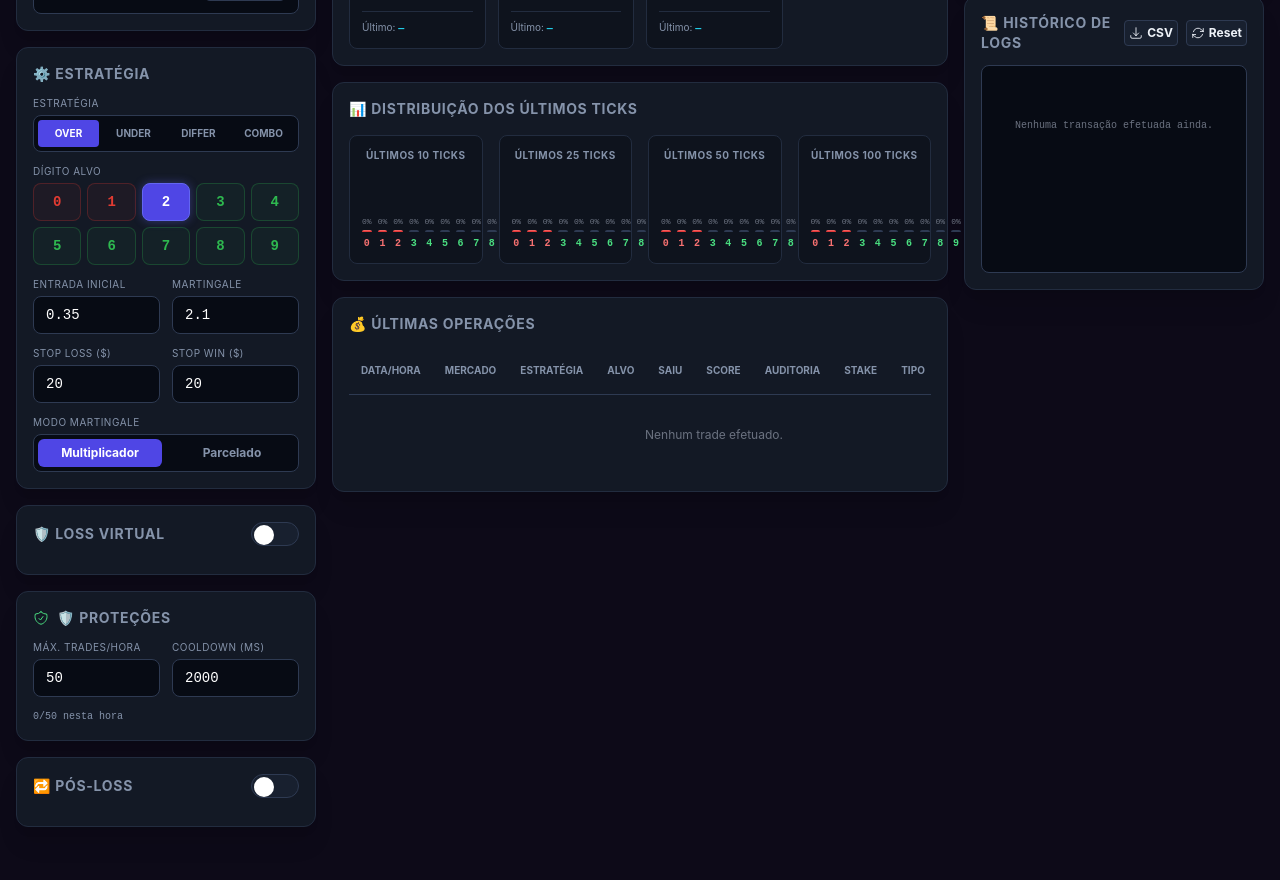
BearBotUltra 2.0 — Bloco Pós-Loss (Card & Funcionalidades) › 2. Alterna o toggle ON/OFF exibindo e ocultando a configuração
(page scrolled)
Ligar Pós-Loss
Click the button without text next to "🔁 PÓS-LOSS" at (275, 786), box [251, 774, 299, 798]
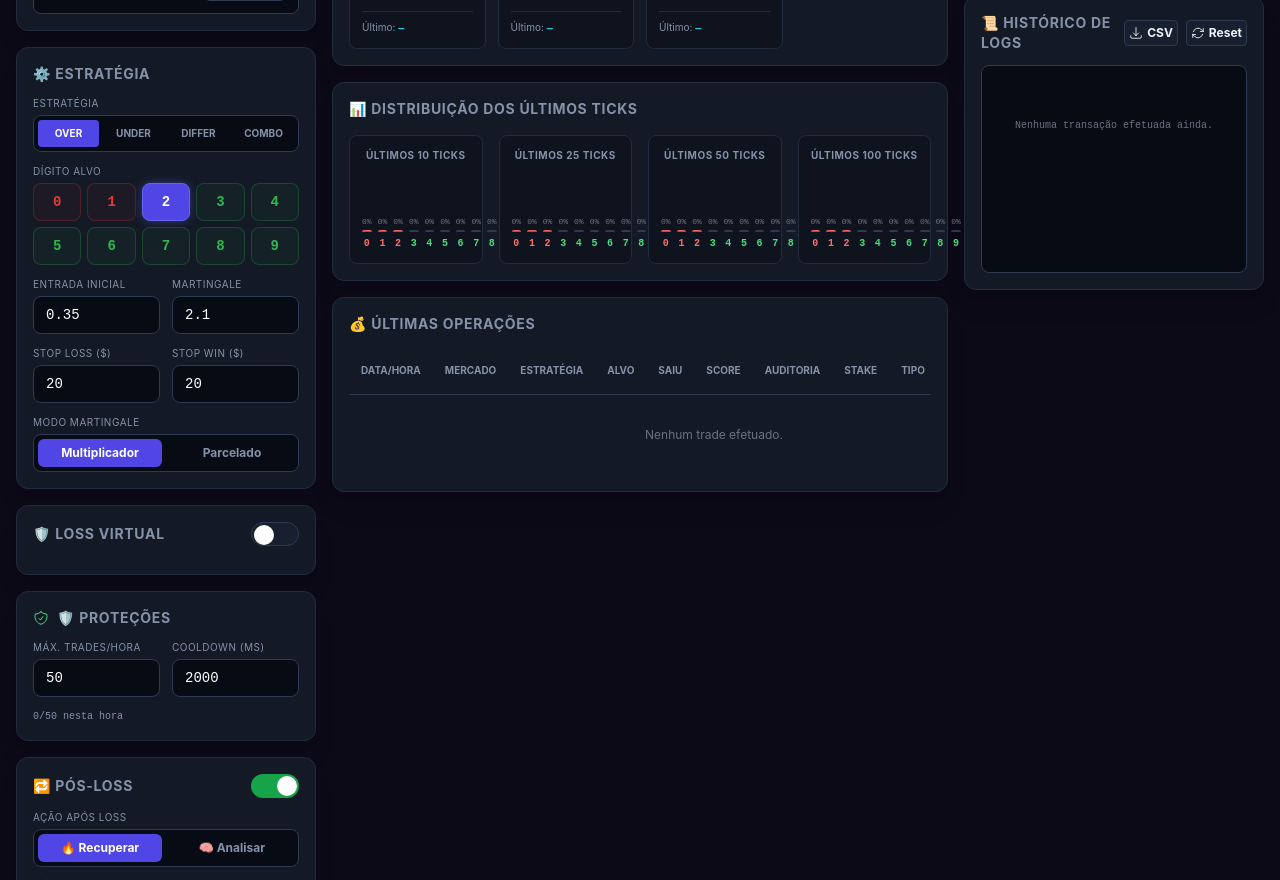
Now the text "Ação após LOSS" is shown, box [33, 810, 127, 822]
Now the button "🔥 Recuperar" is shown, box [38, 834, 162, 862]
Now the button "🧠 Analisar" is shown, box [170, 834, 294, 862]
Desligar Pós-Loss
Click the button without text next to "🔁 PÓS-LOSS" at (275, 786), box [251, 774, 299, 798]
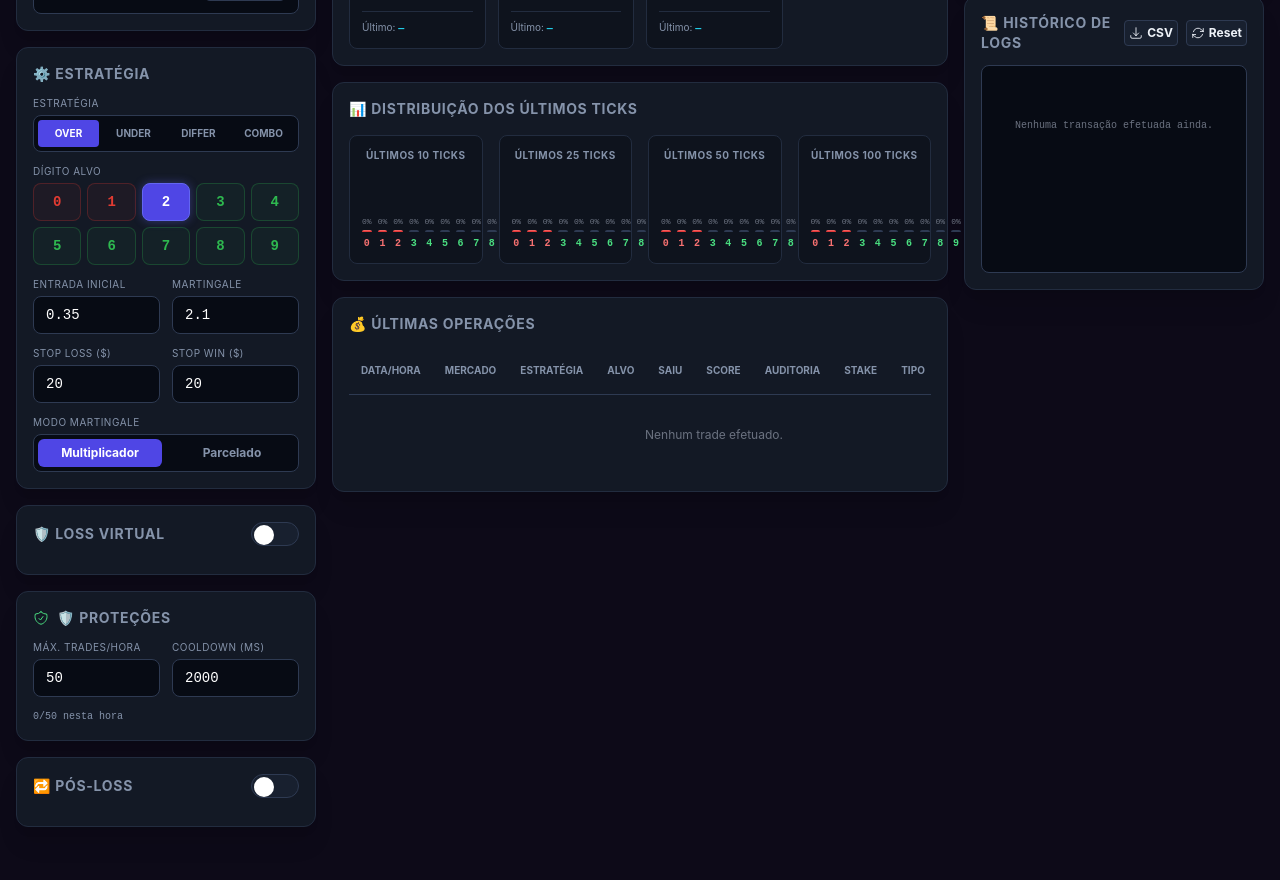
Now the text "Ação após LOSS" is gone
